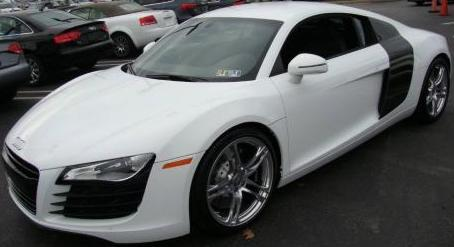front_view: (0, 141, 189, 243)
headlight: (58, 151, 158, 189)
side_glass: (272, 16, 378, 75)
